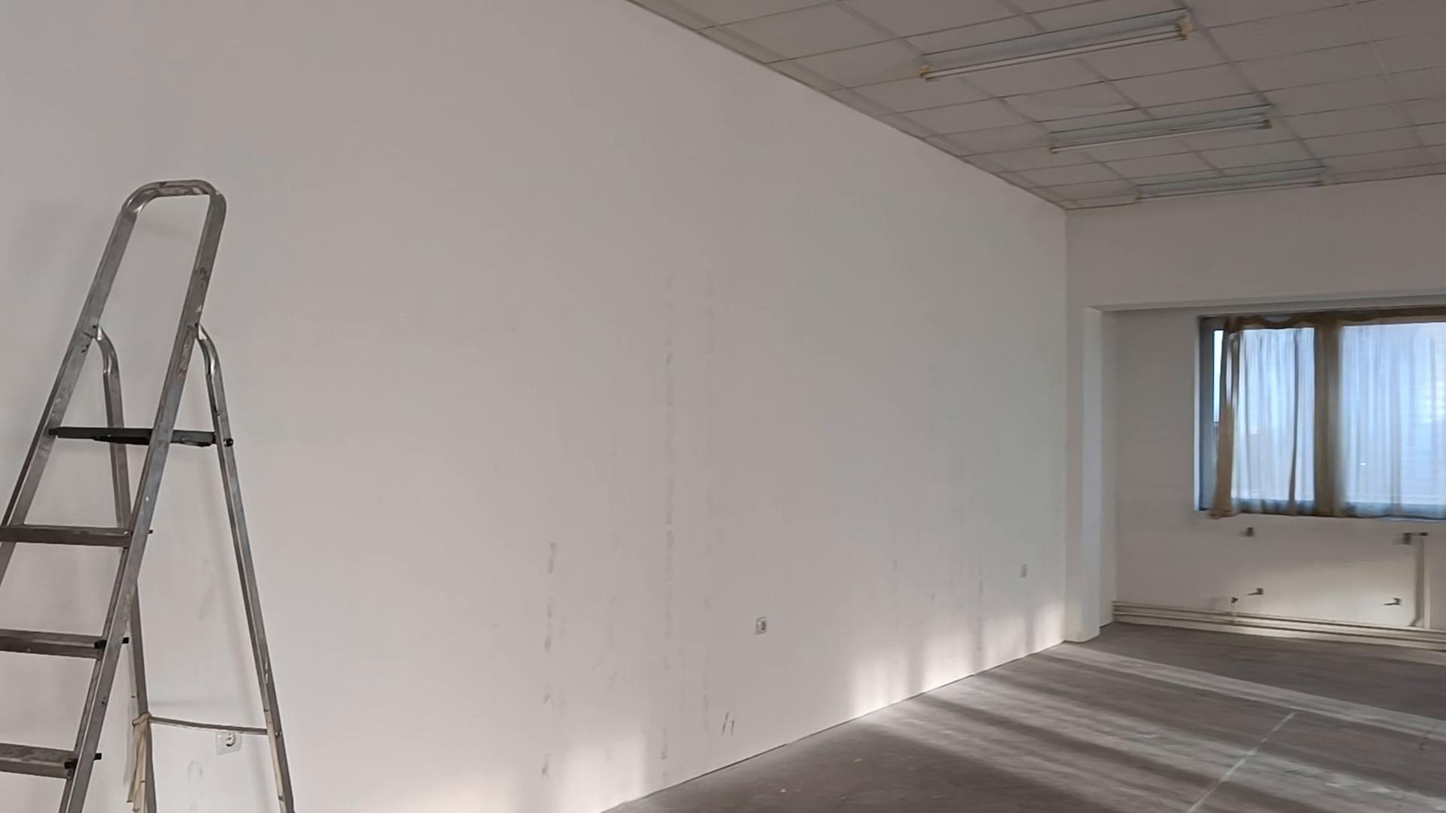ceiling: (632, 0, 1445, 209)
floor: (610, 625, 1445, 812)
wall: (0, 0, 1445, 812), (1112, 522, 1445, 631), (144, 449, 257, 717)
